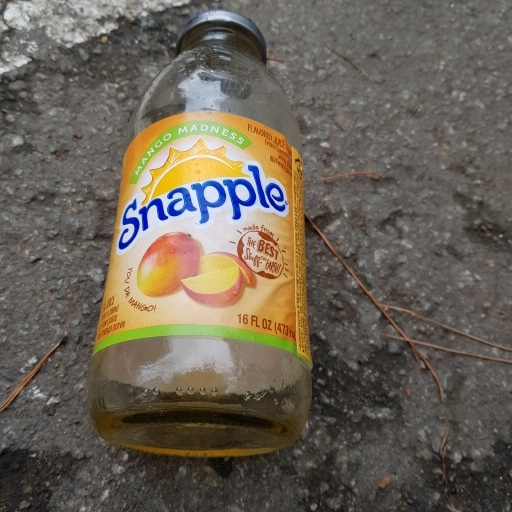Glass_4: (88, 8, 315, 456)
